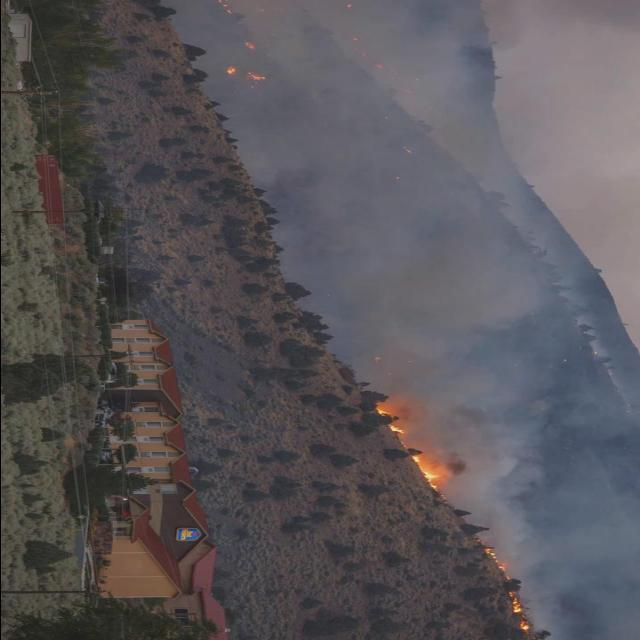Fire: (409, 455, 437, 490), (487, 550, 507, 568), (508, 592, 524, 612), (246, 72, 266, 82), (386, 423, 404, 433), (518, 620, 530, 632), (374, 406, 390, 414), (224, 67, 236, 75), (245, 42, 257, 50)
